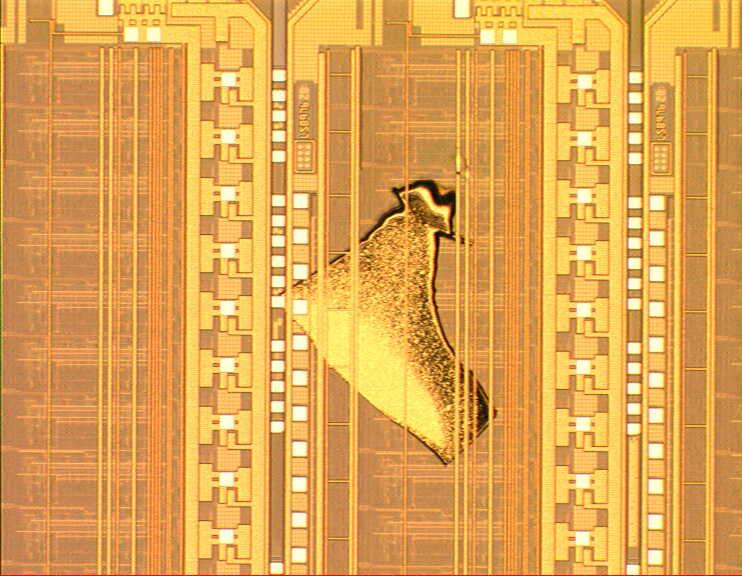BLOCK ETCH: (278, 181, 497, 468)
